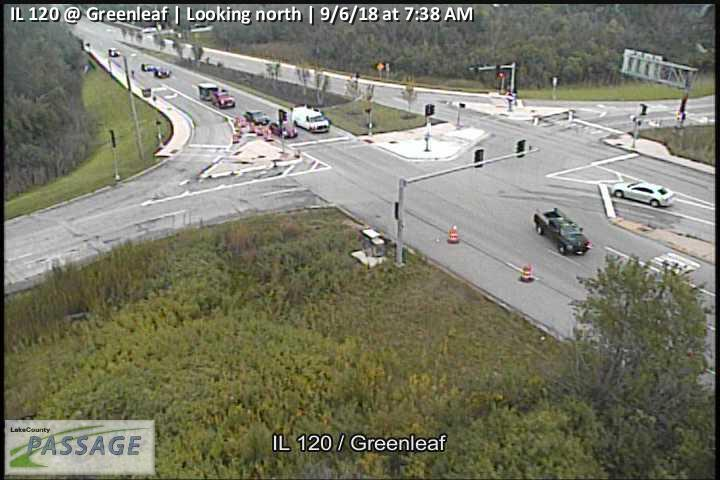SUV: (291, 104, 329, 133)
Sedan: (610, 178, 676, 207), (269, 118, 298, 139), (244, 108, 270, 126), (155, 66, 171, 77), (142, 63, 155, 71)
Truck: (533, 207, 593, 256), (199, 82, 236, 109)
